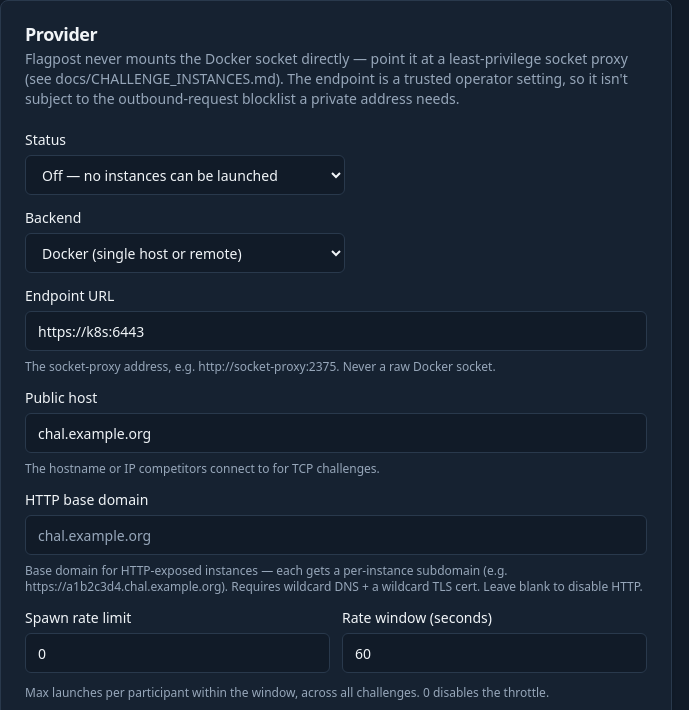
Test: InstancesSettingsPanel — kubernetes › reveals the fields when kubernetes is selected
The width and height of the screenshot is (689, 710).
Select "Kubernetes" in the dropdown labelled "Backend" at point(185, 253), box [25, 233, 345, 273]
(page scrolled)
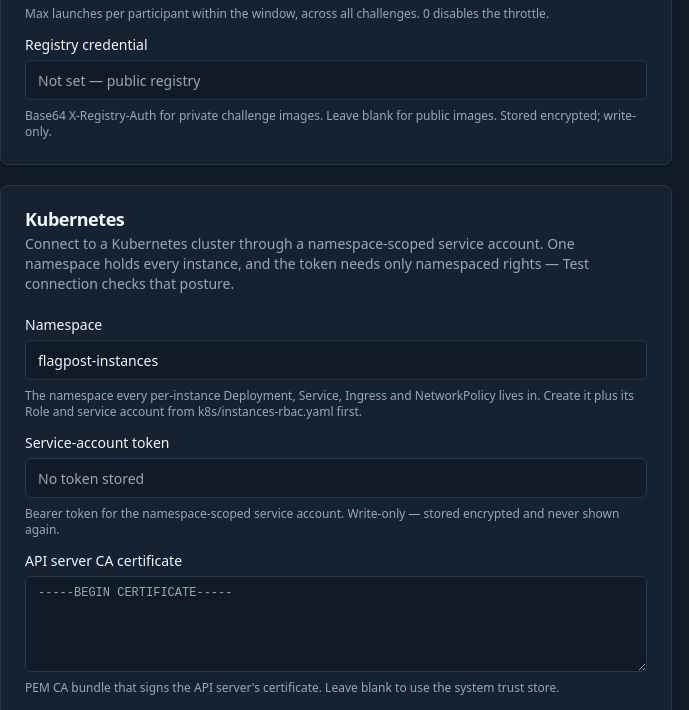
Expected: the field labelled "Namespace" is shown, [25, 340, 647, 380]
